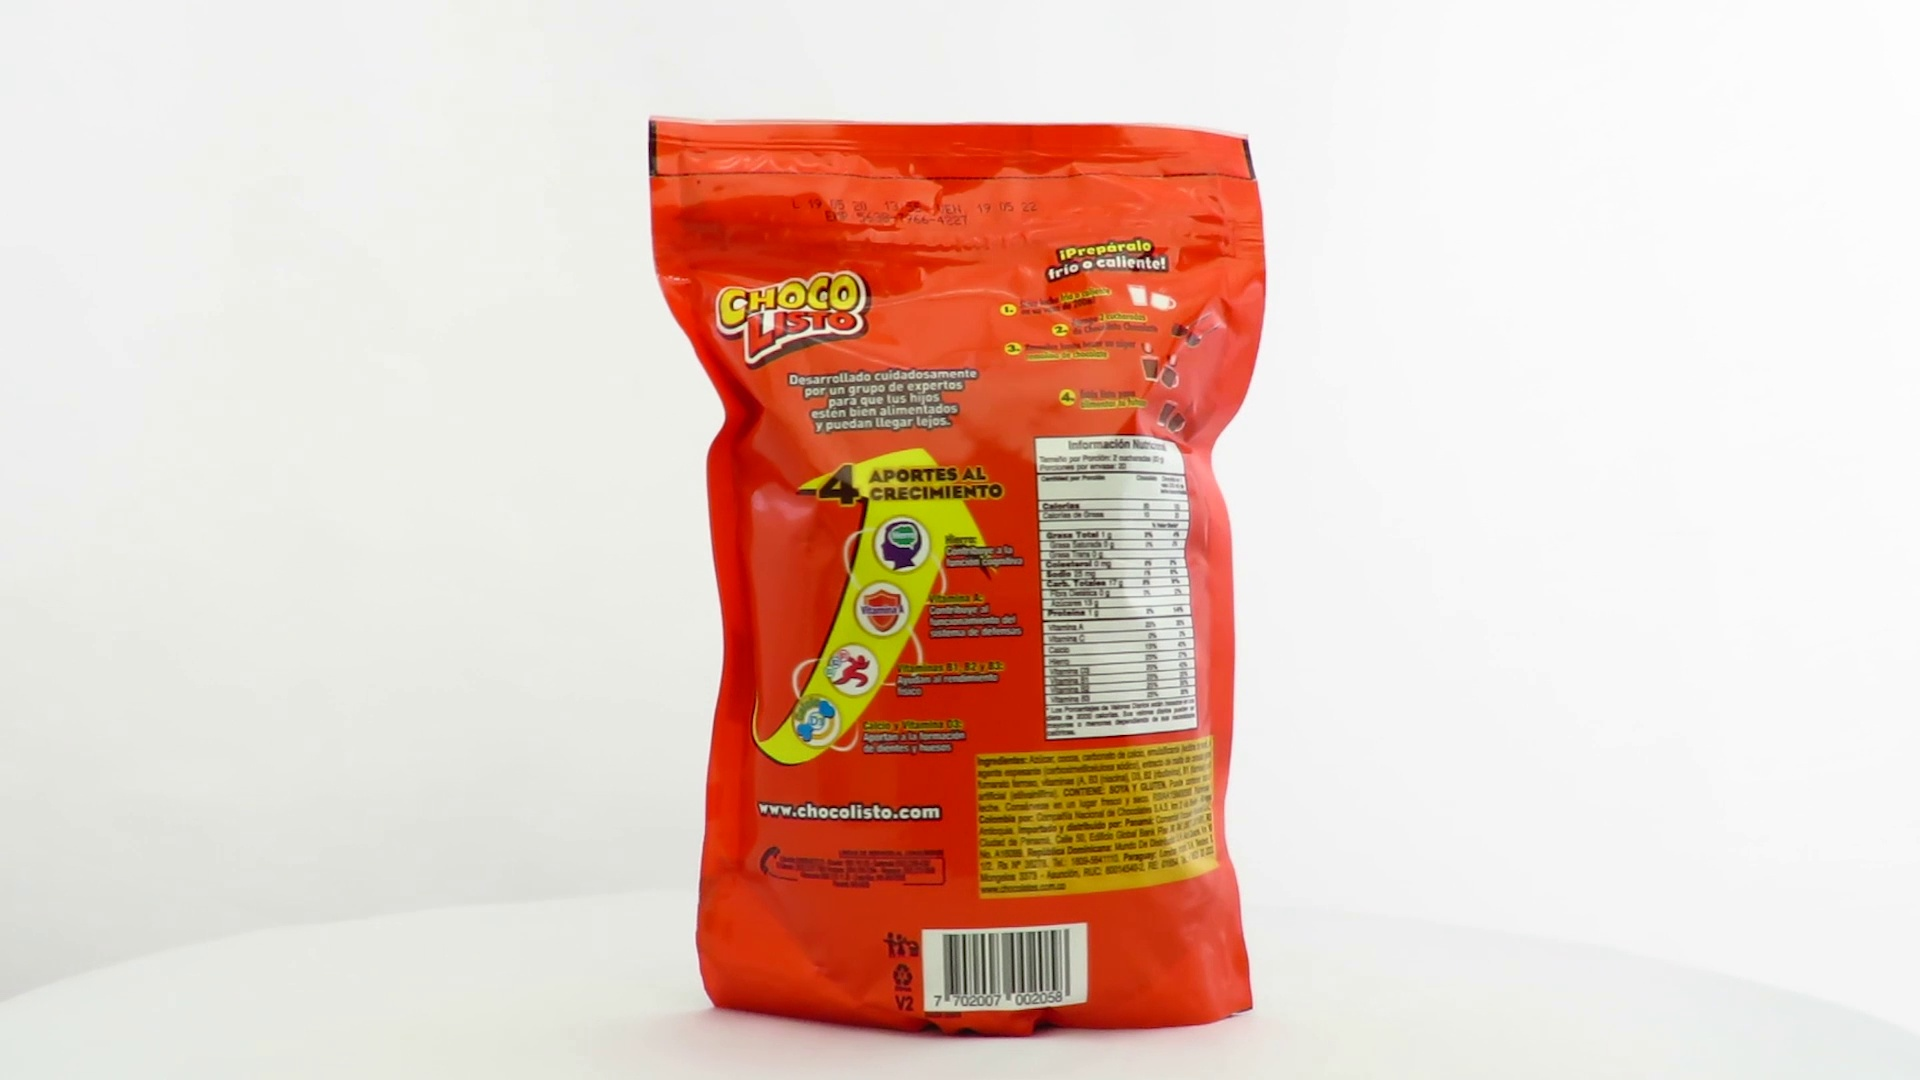COL0170103DYP40000: (644, 109, 1273, 1044)
